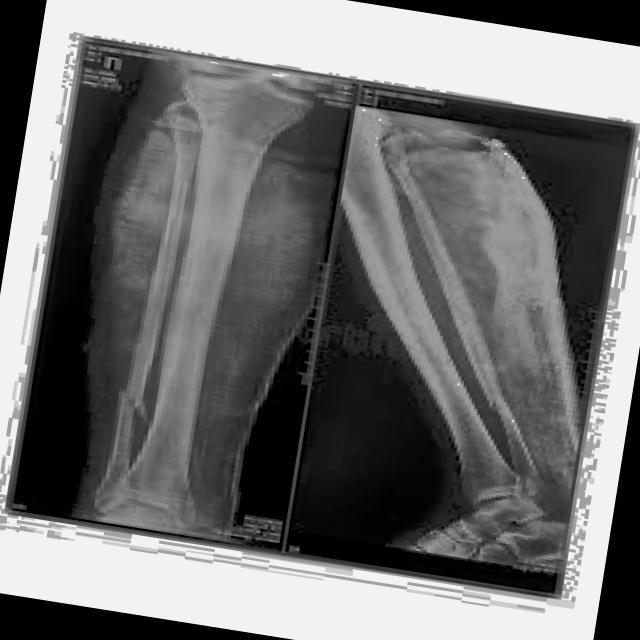Comminuted Fracture: (102, 371, 163, 433), (484, 388, 521, 425)
